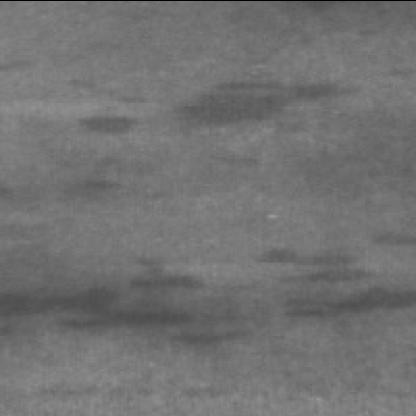inclusion: (10, 239, 412, 335), (158, 65, 374, 133), (64, 100, 150, 144)
